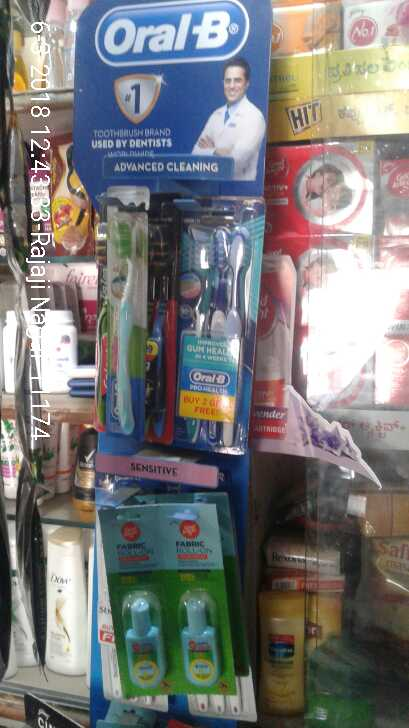oralb: (177, 226, 245, 442), (102, 208, 145, 424)
